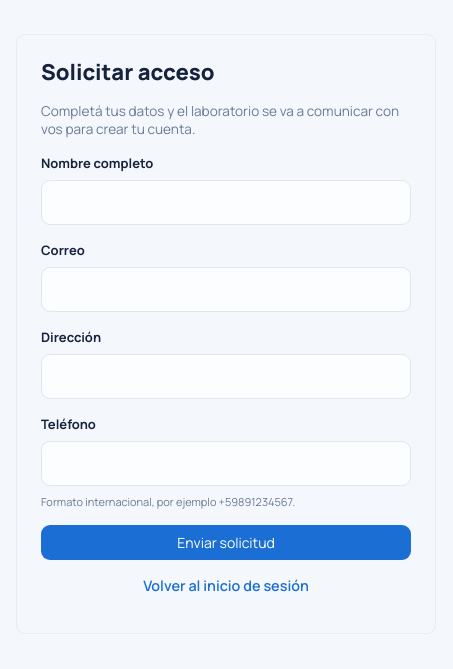
SolicitarAcceso › un error sin campo se muestra como error general del formulario
The width and height of the screenshot is (453, 669).
Step 1. Type "Dr. Juan Pérez" into the field labelled "Nombre completo" → (226, 202), box [41,180,411,225]
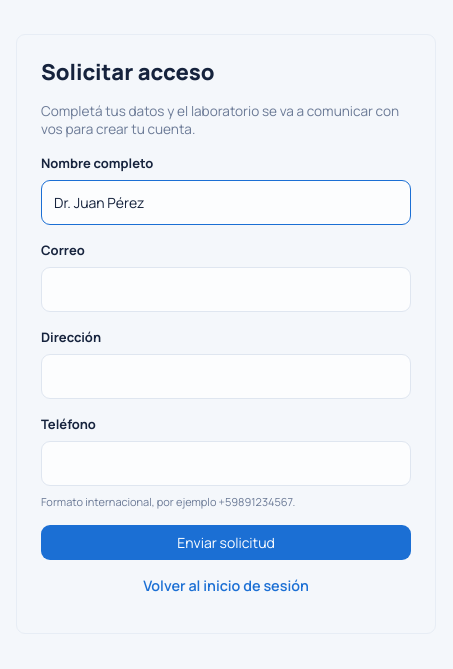
Step 2. Type "juan@mail.com" into the field labelled "Correo" → (226, 290), box [41,267,411,312]
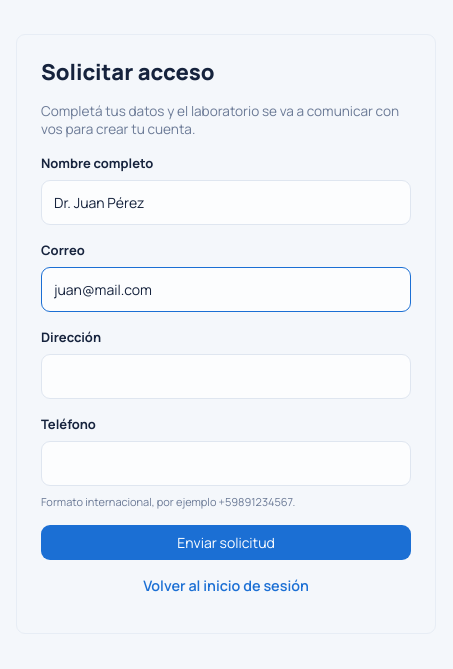
Step 3. Type "Av. 18 de Julio 1234" into the field labelled "Dirección" → (226, 376), box [41,354,411,399]
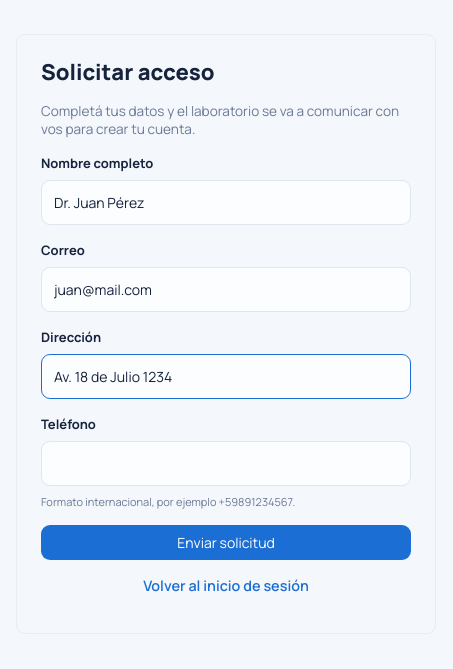
Step 4. Type "+59891234567" into the field labelled "Teléfono" → (226, 464), box [41,441,411,486]
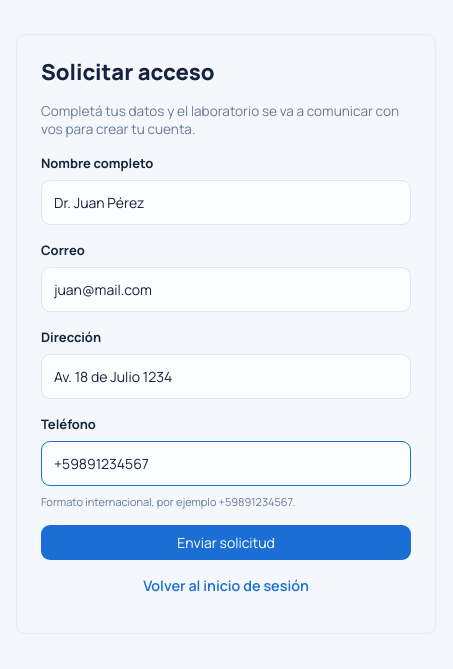
Step 5. Click the button "Enviar solicitud" → (226, 542), box [41,525,411,560]
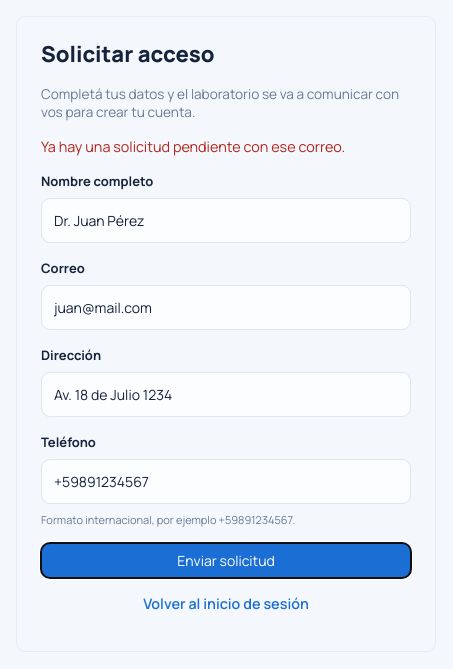
Check: the text "Ya hay una solicitud pendiente con ese correo." is shown, box [41,136,345,156]
